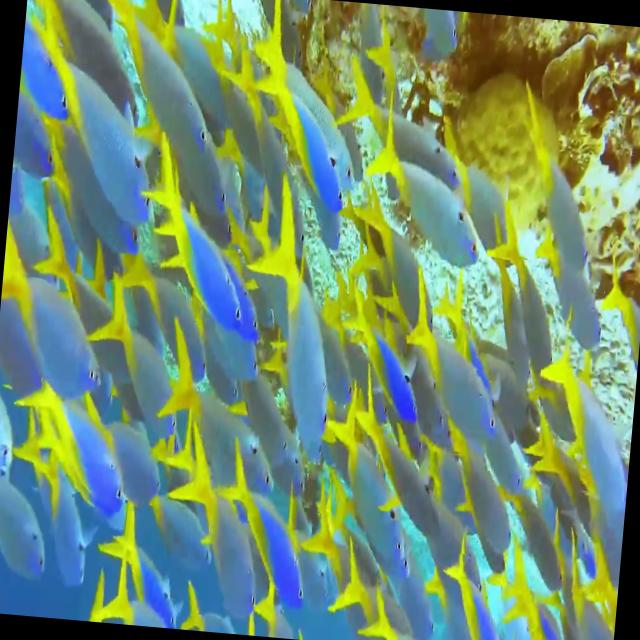fish: (7, 0, 176, 228), (8, 0, 168, 225), (240, 186, 350, 466), (509, 114, 618, 367), (532, 336, 640, 585), (160, 404, 274, 636), (91, 291, 199, 510), (247, 26, 361, 228), (21, 363, 145, 545), (134, 152, 257, 334), (356, 106, 492, 266), (490, 233, 574, 462), (0, 248, 116, 402), (14, 401, 100, 595), (215, 454, 321, 610), (348, 385, 450, 547), (404, 298, 510, 449), (439, 423, 519, 562), (442, 544, 531, 640), (0, 472, 52, 581)
